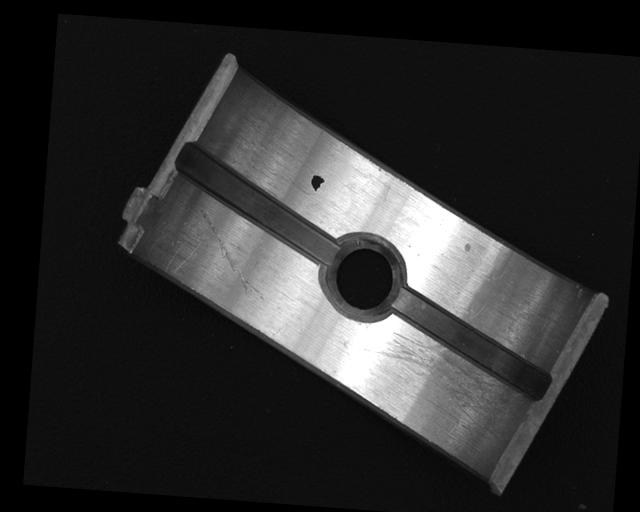blot: (310, 173, 326, 192)
bruise: (464, 242, 472, 253)
gap: (168, 140, 343, 266), (387, 286, 555, 400)
hole: (322, 234, 404, 322)
nick: (192, 208, 271, 300)
scratch: (362, 327, 527, 441)
